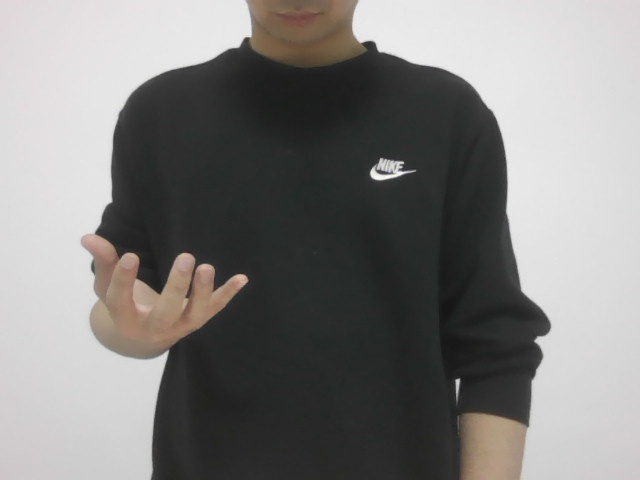flavor: (59, 211, 249, 359)
